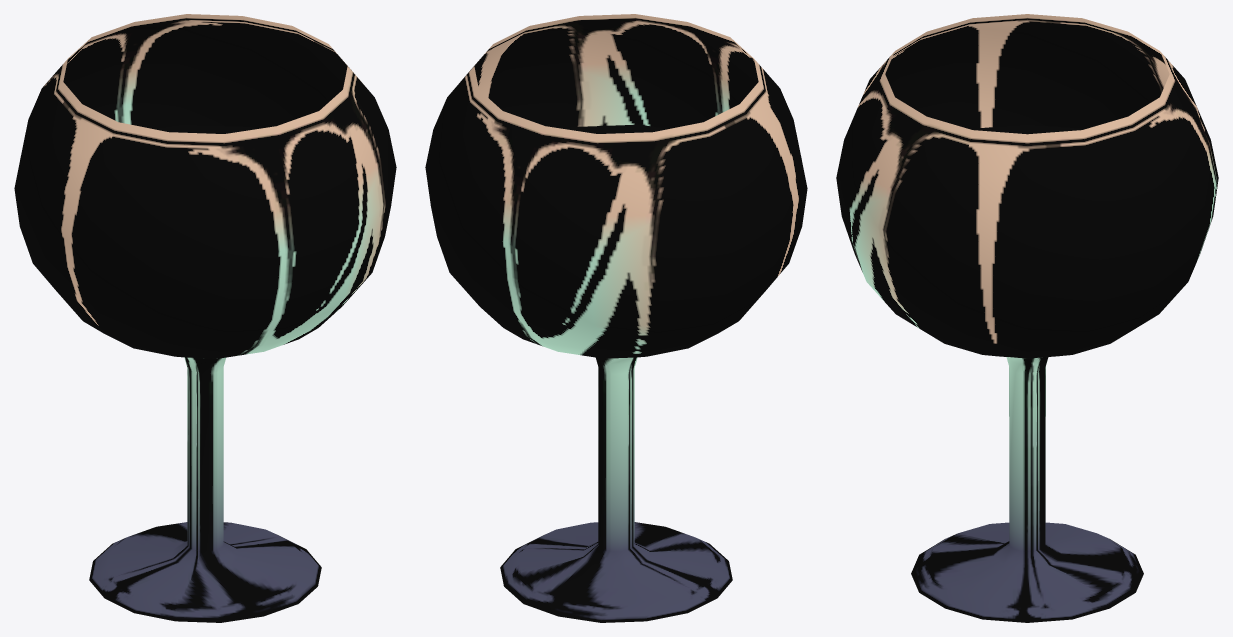
The model's file is bl0818-color.glb.
The picture shows the model from 3 angles, left to right: view 1: azimuth 30°, elevation 25°; view 2: azimuth 150°, elevation 25°; view 3: azimuth 270°, elevation 25°; orthographic projection.
Visible parts, largest first — view 1: role_0; view 2: role_0; view 3: role_0.
Part boxes in pixels (<box>): role_0: <box>14,14,396,622</box>; role_0: <box>425,14,807,622</box>; role_0: <box>836,14,1218,622</box>.
Size of the model in its own units: 0.1893 by 0.2729 by 0.1893.
2 materials, 2 textured.
